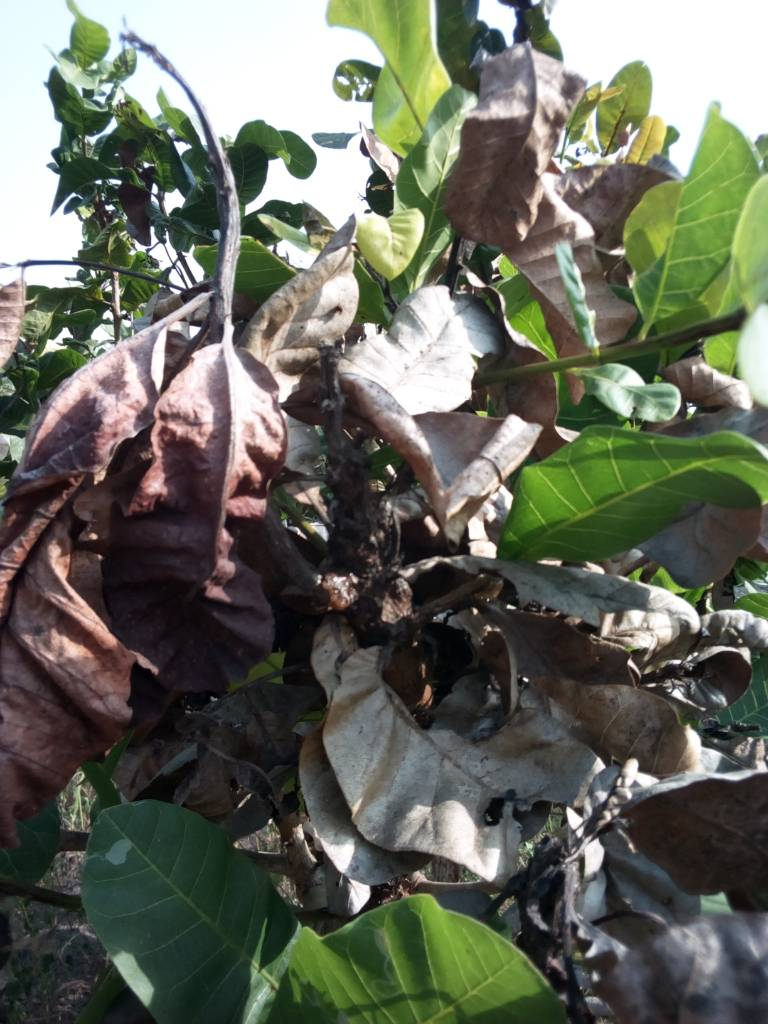Dessèchement des bourgeons: (258, 467, 444, 638), (528, 825, 594, 998)
